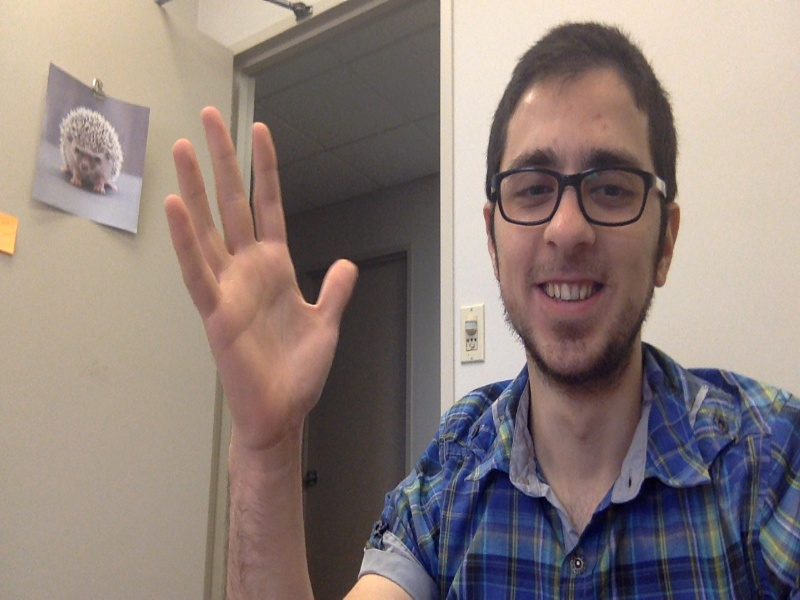5-hand: (163, 106, 360, 428)
